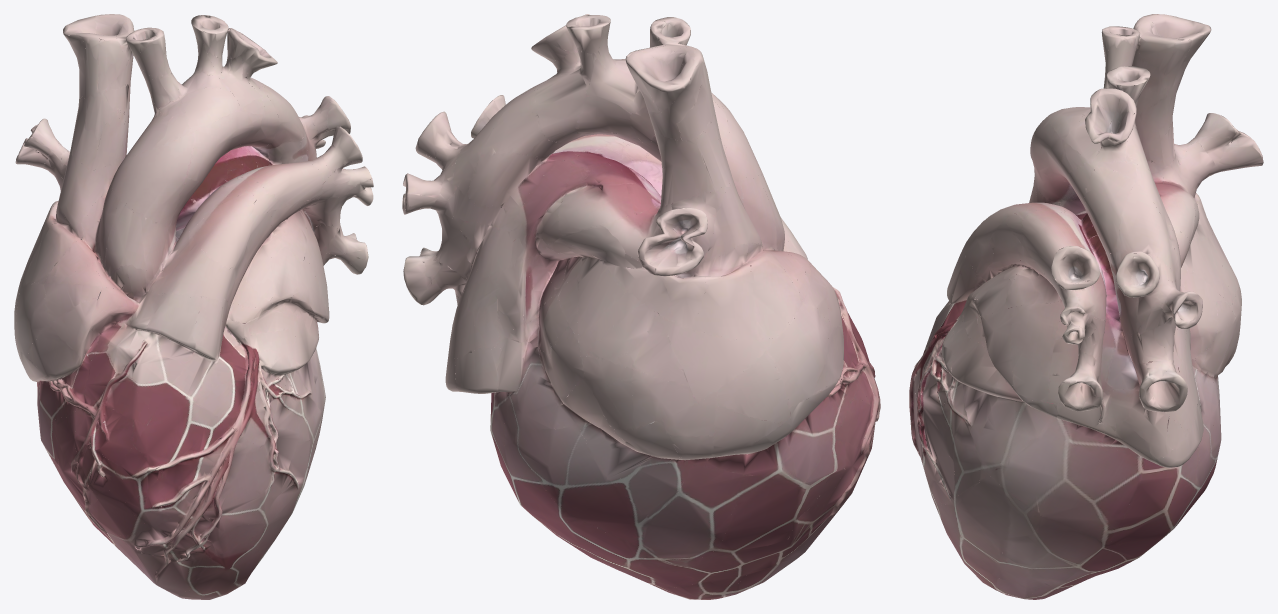
Rendered from rose-heart.glb.
3 views of the same model, side by side, from view 1: azimuth 30°, elevation 25°; view 2: azimuth 150°, elevation 25°; view 3: azimuth 270°, elevation 25° (orthographic). The views are drawn at different scales.
Parts seen in each view (by area): view 1: Mesh_0.002; view 2: Mesh_0.002; view 3: Mesh_0.002.
Part boxes in pixels (x1,y1,x2,y2): Mesh_0.002: (14,14,373,599); Mesh_0.002: (402,14,880,599); Mesh_0.002: (909,14,1263,599).
Size of the model in its own units: 1.24 by 1.9 by 1.09.
1 material, 1 textured.
